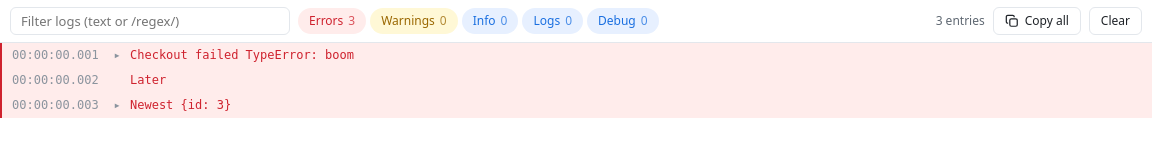
Test: LogsPanel › keeps following when the newest entry opens
Click the button "00:00:00.003 Newest {id: 3}" at (55, 105), box [0,93,1151,118]
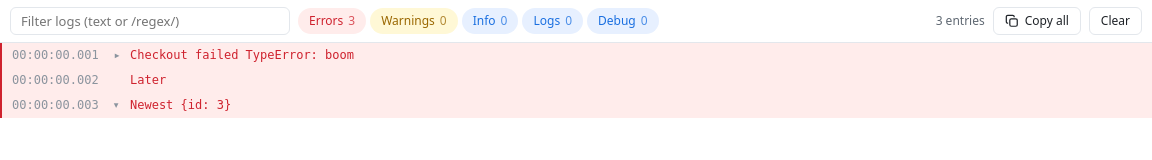
Expected: the button "00:00:00.003 Newest {id: 3}" is expanded, [0,93,1151,118]
